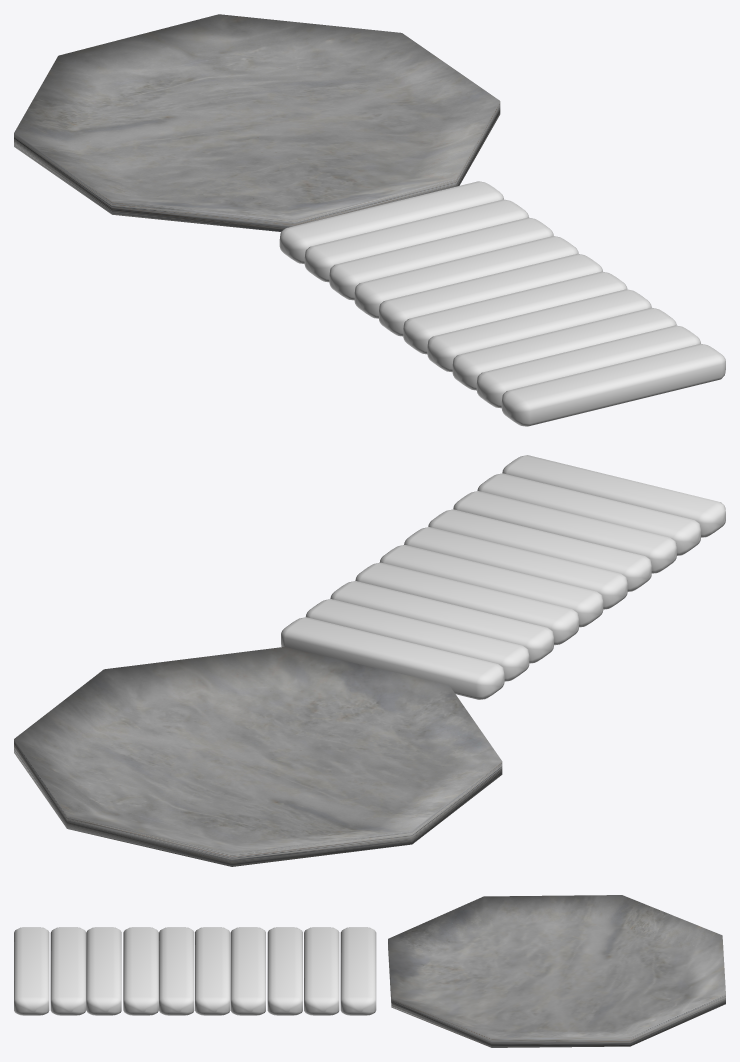
The model's file is PLATAFORMAGIRATORIA.fbx.
The picture shows the model from 3 angles, top to bottom: view 1: azimuth 30°, elevation 25°; view 2: azimuth 150°, elevation 25°; view 3: azimuth 270°, elevation 25°; orthographic projection. The views are drawn at different scales.
Visible parts, largest first — view 1: PLATAFORMAGIRATORIA; view 2: PLATAFORMAGIRATORIA; view 3: PLATAFORMAGIRATORIA.
Boxes of the visible parts, x1,y1,x2,y2 form: PLATAFORMAGIRATORIA: (14,14,725,426); PLATAFORMAGIRATORIA: (14,455,725,866); PLATAFORMAGIRATORIA: (14,895,725,1047).
Bounding box in the file's own units: 933 × 55.27 × 1966.
